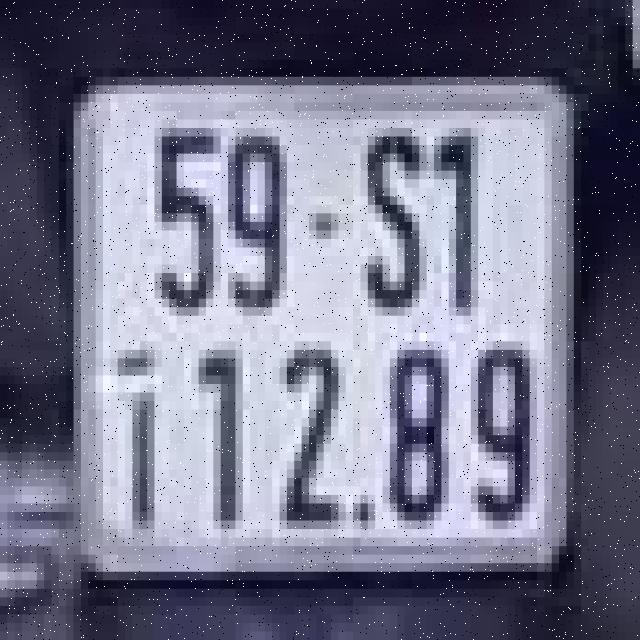1: (96, 341, 176, 546), (423, 107, 489, 320), (188, 328, 246, 542)
2: (268, 337, 349, 542)
5: (147, 119, 221, 316)
8: (379, 337, 452, 533)
9: (464, 333, 544, 529), (221, 124, 294, 320)
S: (350, 115, 430, 320)
